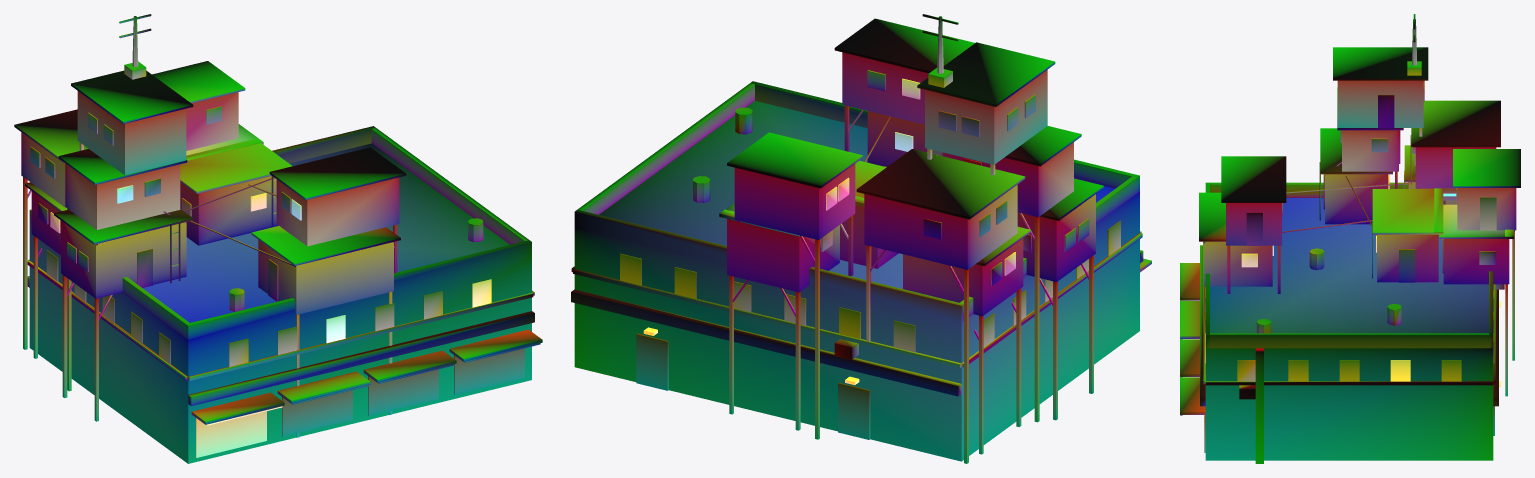
The model's file is Slum_Stack_V4.fbx.
3 views of the same model, side by side, from view 1: azimuth 30°, elevation 25°; view 2: azimuth 150°, elevation 25°; view 3: azimuth 270°, elevation 25° (orthographic). The views are drawn at different scales.
Parts seen in each view (by area): view 1: Slum_Stack_V4_LOD0; view 2: Slum_Stack_V4_LOD0; view 3: Slum_Stack_V4_LOD0.
Part boxes in pixels (x1=…): Slum_Stack_V4_LOD0: x1=14, y1=14, x2=542, y2=463; Slum_Stack_V4_LOD0: x1=571, y1=14, x2=1151, y2=463; Slum_Stack_V4_LOD0: x1=1180, y1=14, x2=1520, y2=463.
Size of what is drawn, in the model's own units: 22.2 by 19.15 by 18.71.
